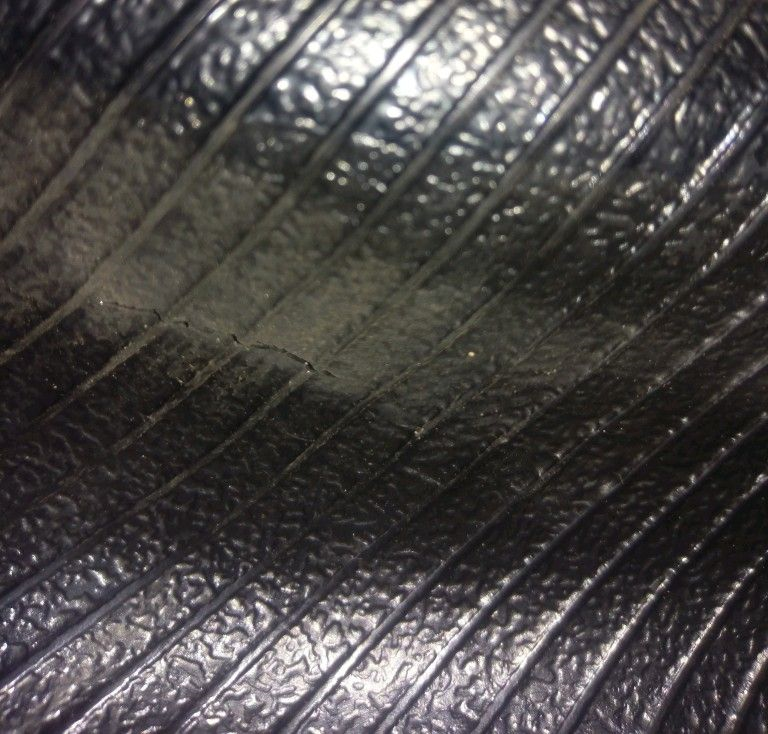cut: (92, 296, 355, 398)
